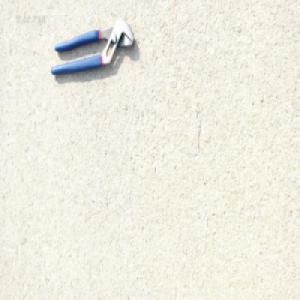Pliers: (50, 17, 135, 77)
